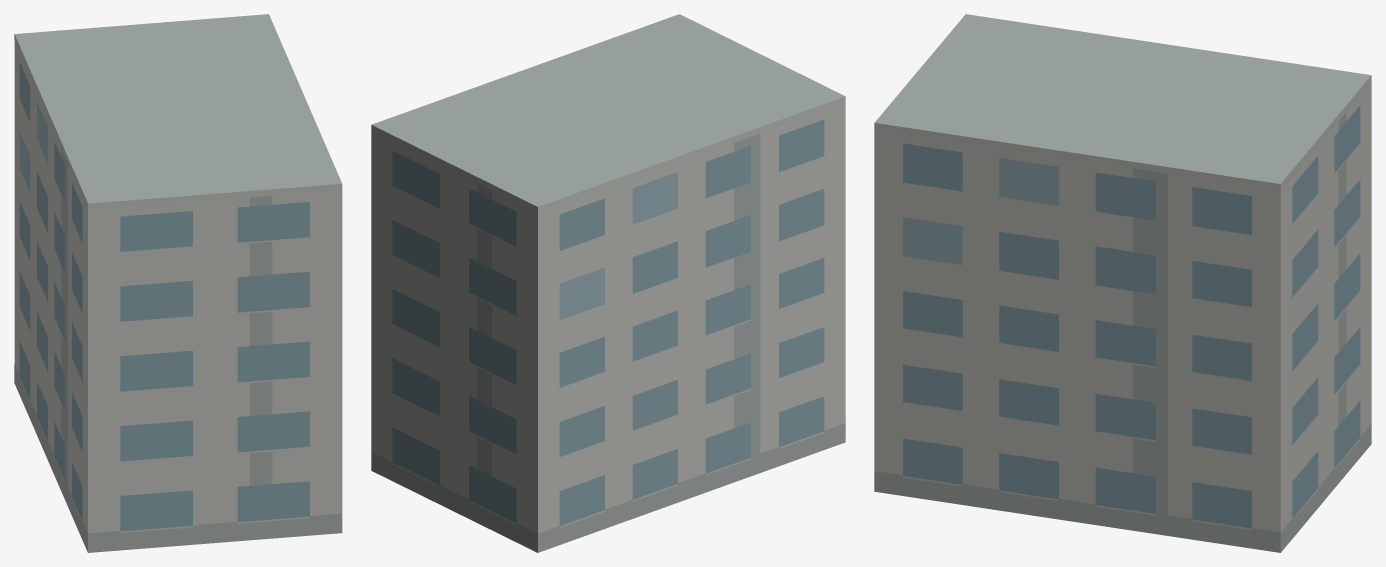
The model's file is survey-upis-32884264.glb.
3 views of the same model, side by side, from view 1: azimuth 30°, elevation 25°; view 2: azimuth 150°, elevation 25°; view 3: azimuth 270°, elevation 25° (orthographic). The views are drawn at different scales.
Visible parts, largest first — view 1: survey-upis-32884264.tmp; view 2: survey-upis-32884264.tmp; view 3: survey-upis-32884264.tmp.
Part boxes in pixels (bbox=[...]): survey-upis-32884264.tmp: bbox=[14, 14, 342, 552]; survey-upis-32884264.tmp: bbox=[371, 14, 845, 552]; survey-upis-32884264.tmp: bbox=[874, 14, 1371, 552].
Bounding box in the file's own units: 13.06 × 13.2 × 16.13.
